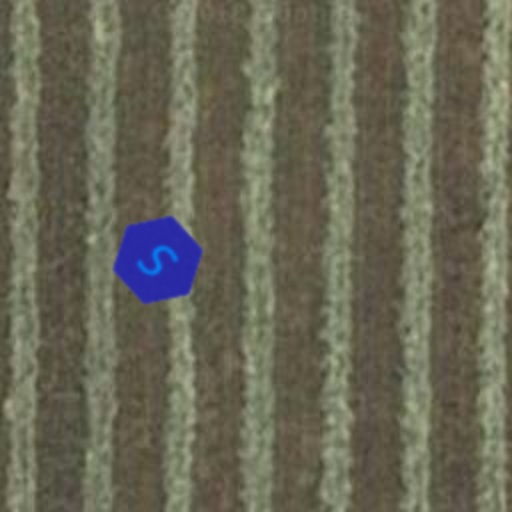hexagon: (90, 192, 226, 328)
